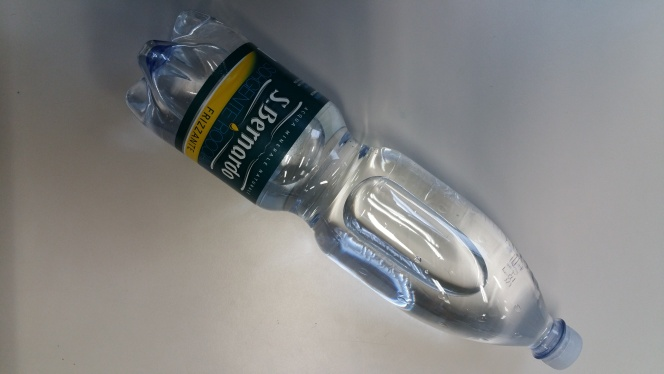bottle: (119, 6, 582, 372)
